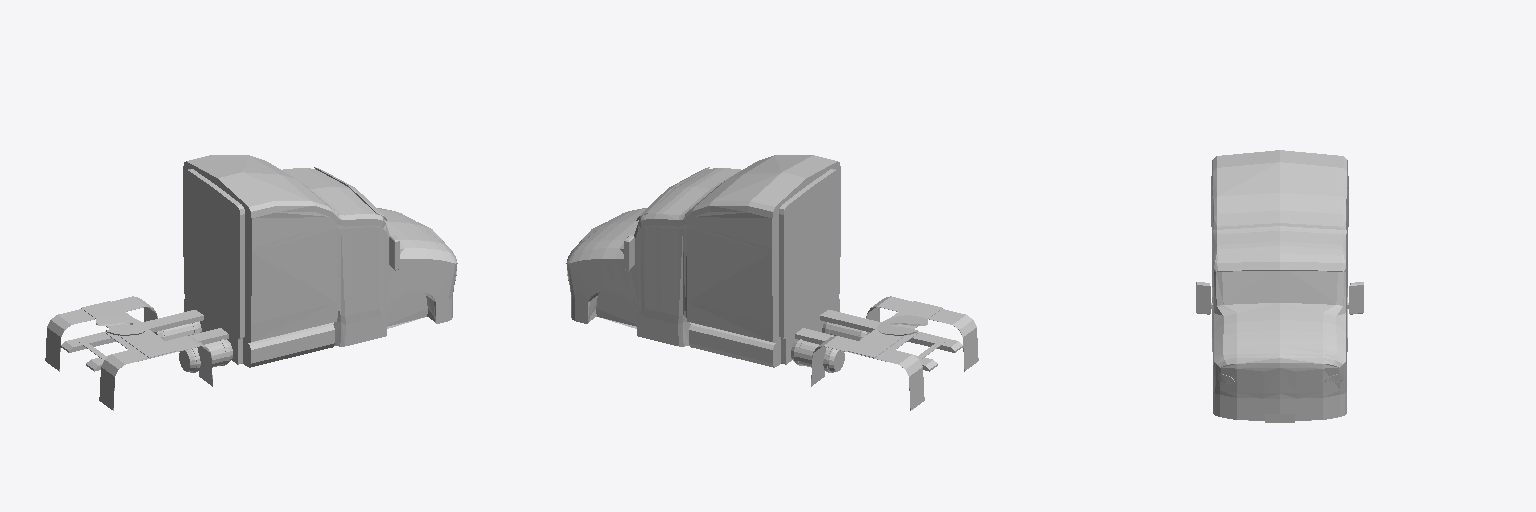
The model's file is SemiTrailer.obj.
3 renders of one model, left to right at view 1: azimuth 30°, elevation 25°; view 2: azimuth 150°, elevation 25°; view 3: azimuth 270°, elevation 25°, orthographic.
Parts seen in each view (by area): view 1: Truck; view 2: Truck; view 3: Truck.
Boxes of the visible parts, <box> form: Truck: <box>45,155,457,410</box>; Truck: <box>566,155,978,410</box>; Truck: <box>1196,150,1363,422</box>.
Size of the model in its own units: 6.14 by 2.86 by 2.49.